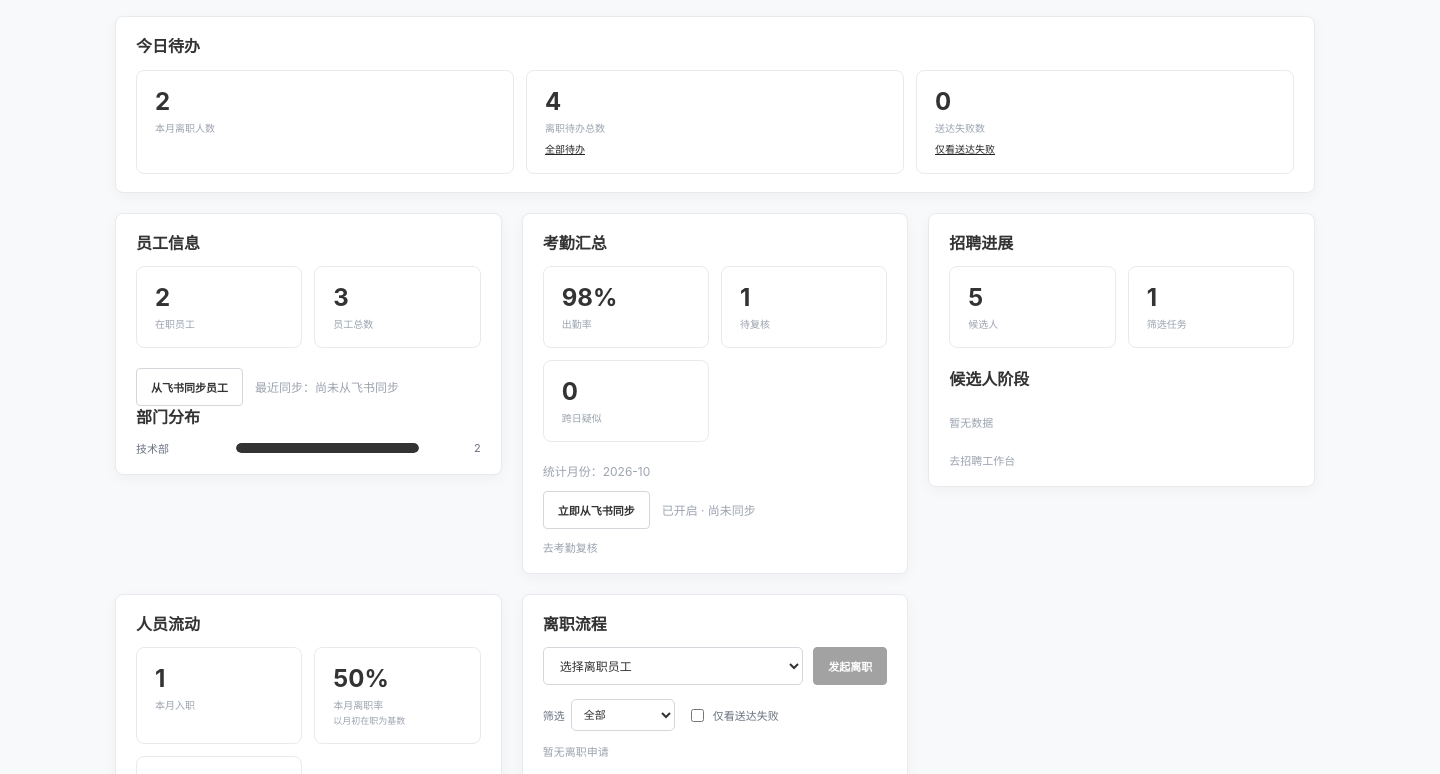
Scenario: 人事中台：首屏待办聚合与筛选 › 待办 KPI 可点击写入筛选
This screenshot has width=1440, height=774.
Click the button with class "hr-kpi-link" showing "全部待办" at (565, 148), box [545,141,585,156]
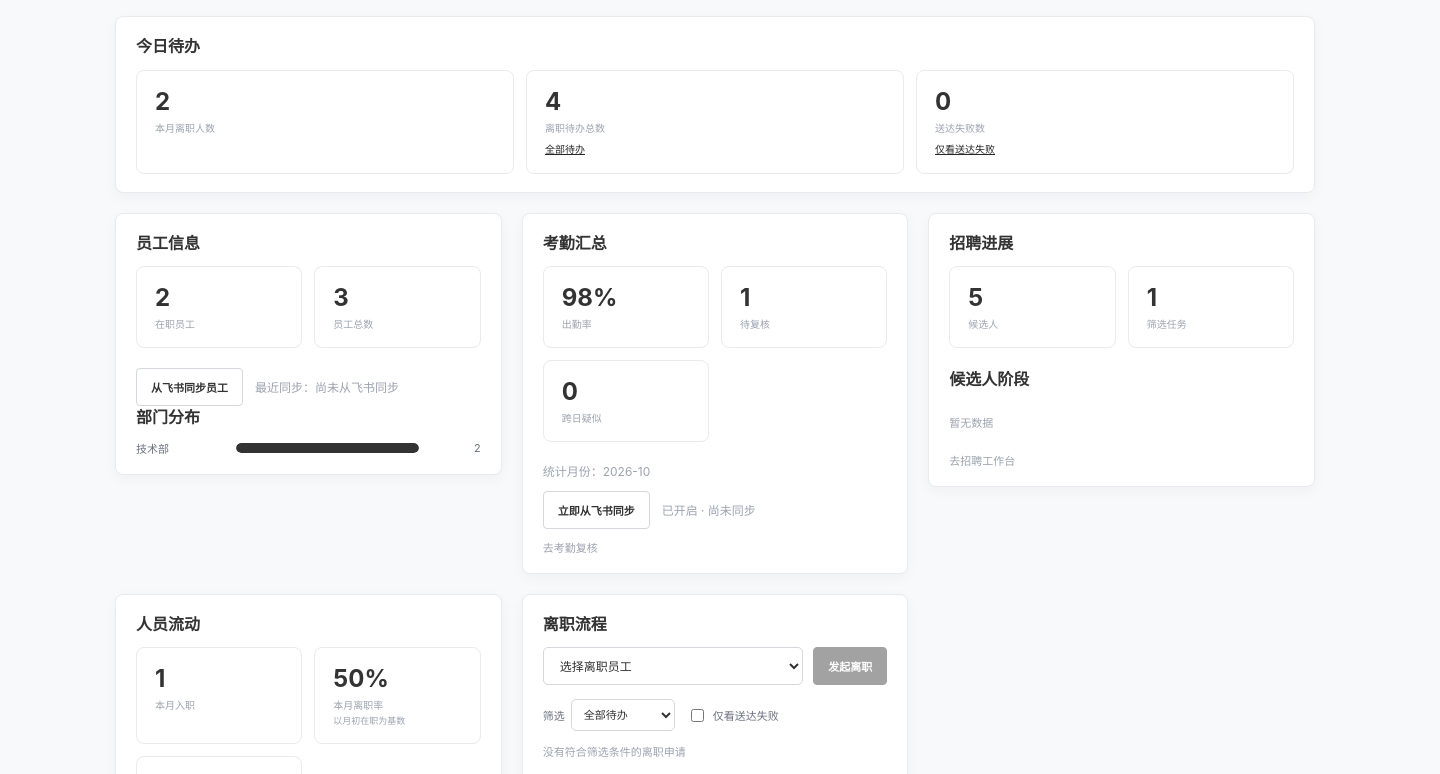
expect the dropdown labelled "筛选" shows "全部待办": met, box [571,699,675,731]
